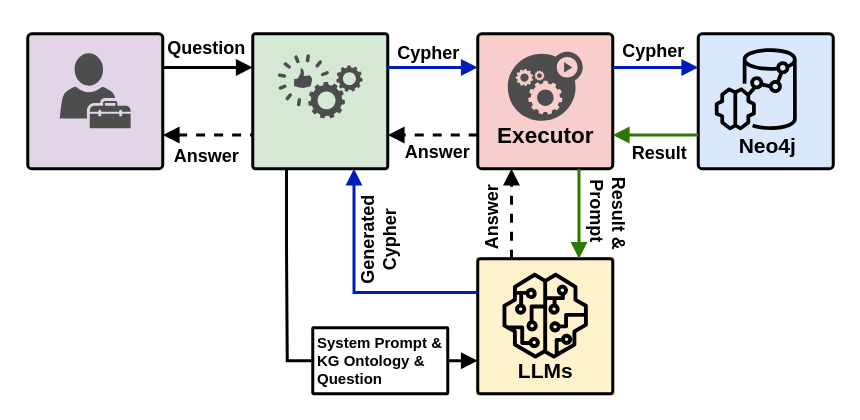
This 860x420 diagram has some shape labels left out. The box of each missing label's shape, as (x1, y1, x2, y2) in pixels:
Admin: (59, 52, 130, 128)
Dispatch: (277, 53, 362, 118)
